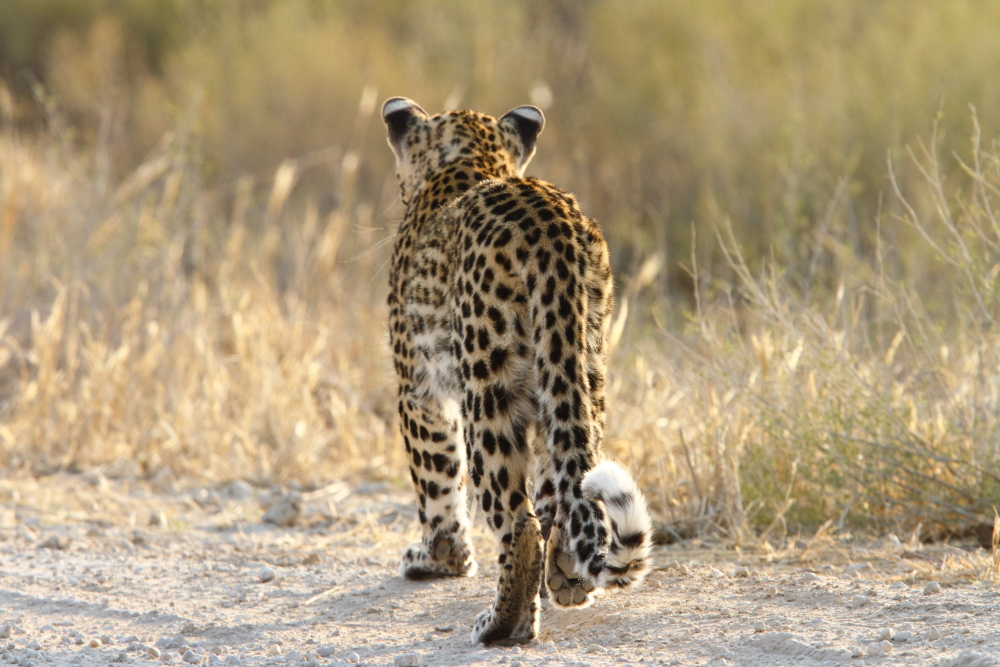Cheetah: (377, 90, 641, 648)
